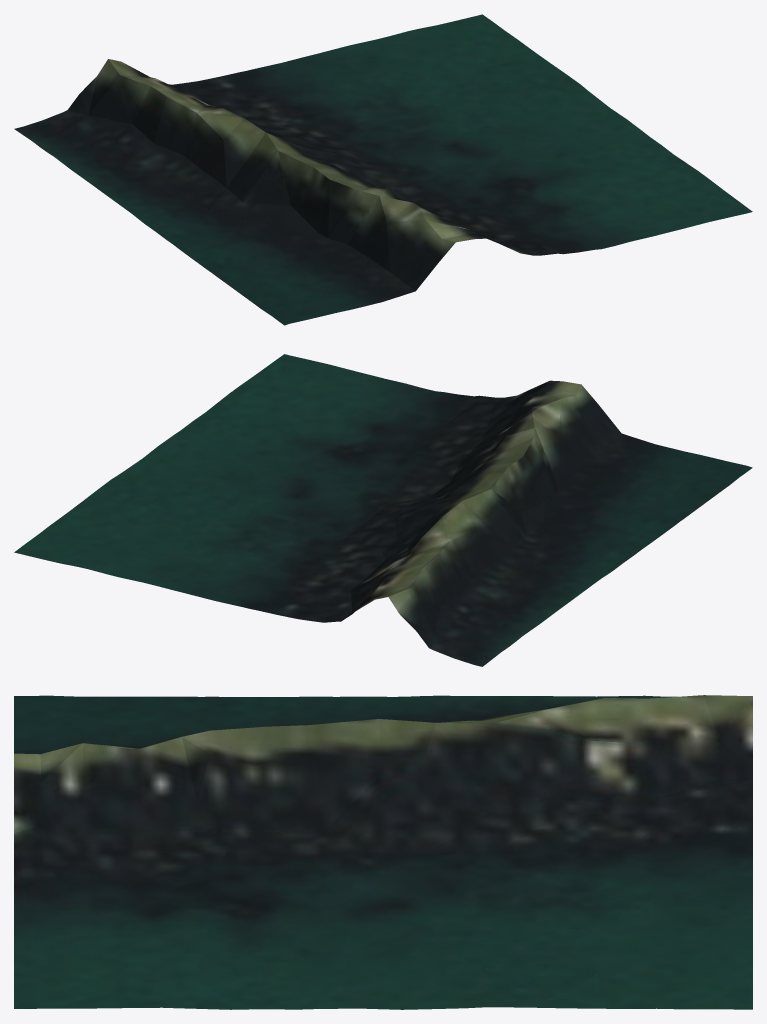
The picture shows the model from 3 angles, top to bottom: view 1: azimuth 30°, elevation 25°; view 2: azimuth 150°, elevation 25°; view 3: azimuth 270°, elevation 25°; orthographic projection. The views are drawn at different scales.
Size of the model in its own units: 52.22 by 5.21 by 52.22.
Materials: 3 (3 with a texture image).
